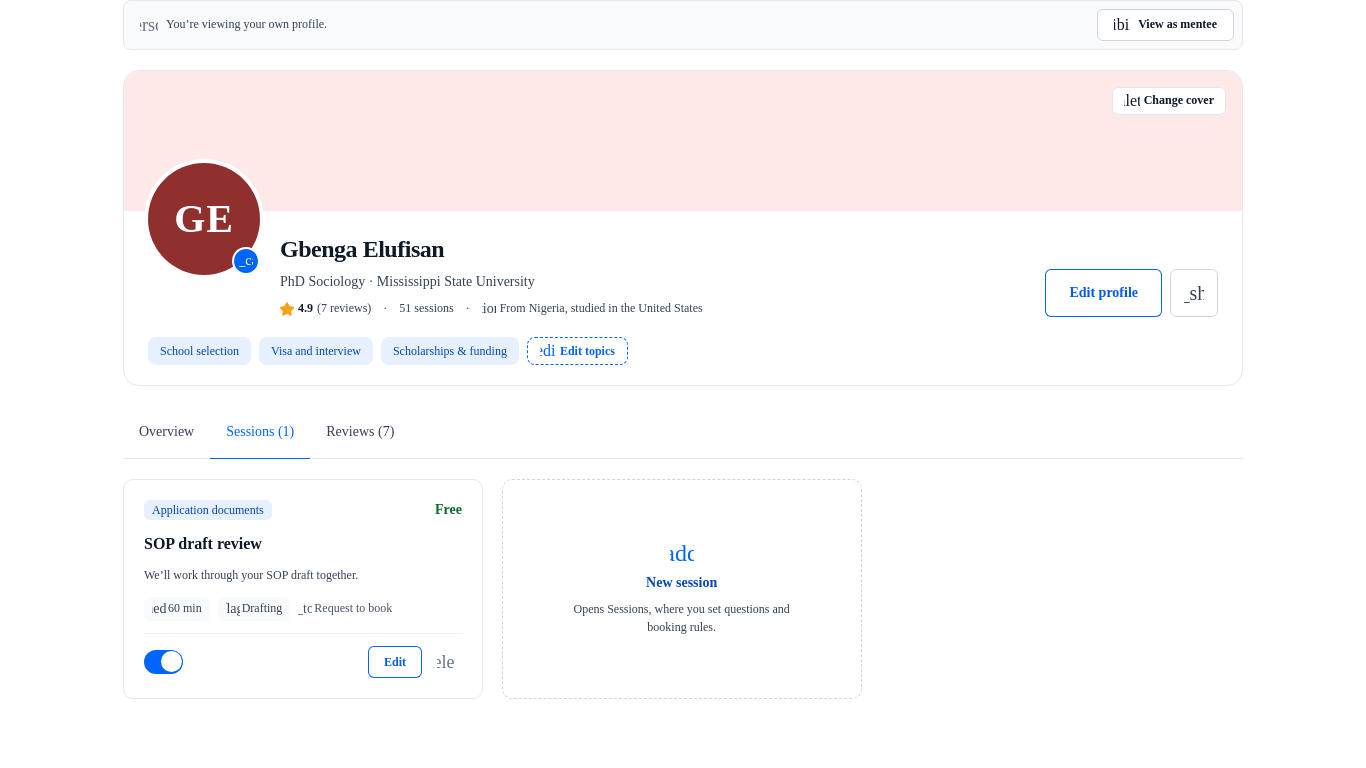
Test: MentorProfileScreen — the owner’s session types (active only) › the last active type says what hiding it means
The width and height of the screenshot is (1366, 768).
Click the switch named "Visible to mentees: SOP draft review": (164, 662) [144,650,183,674]
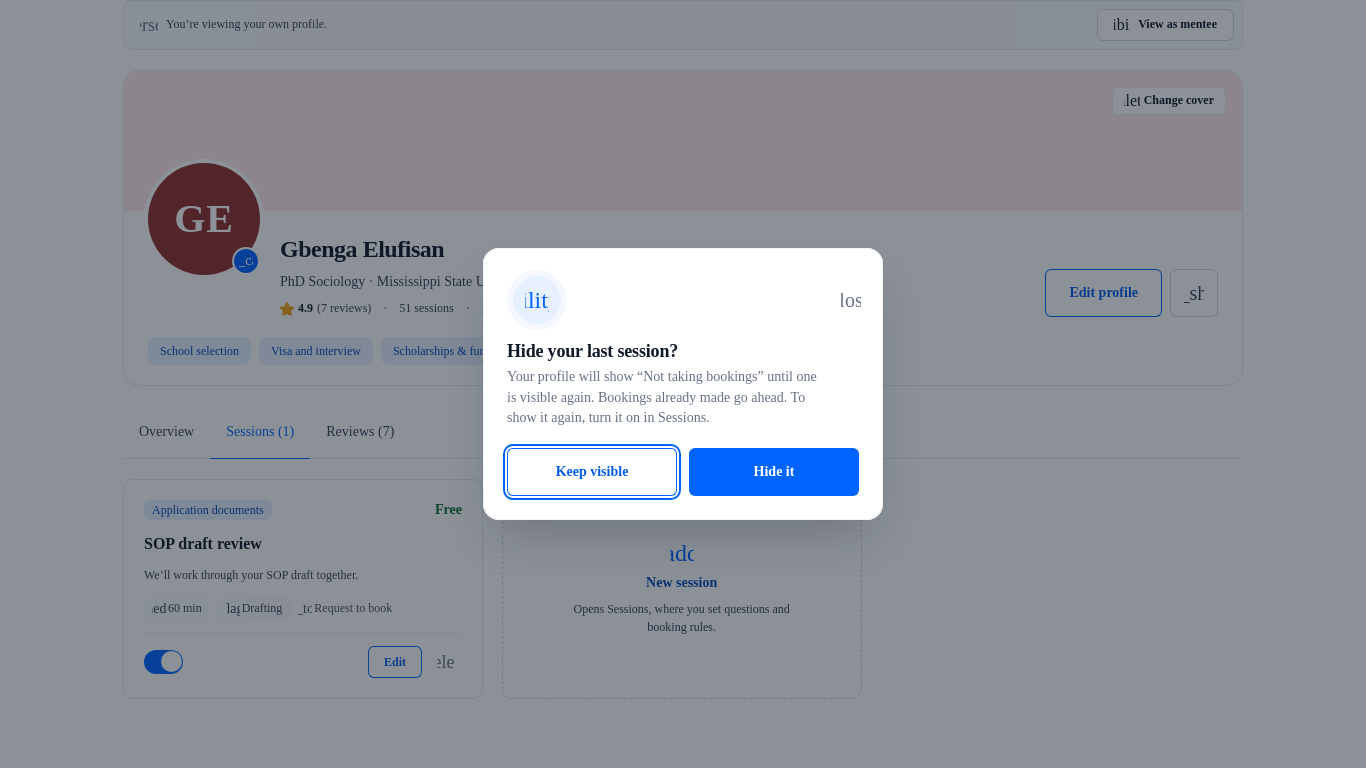
Now the dialog "Hide your last session?" shows "Your profile will show “Not taking bookings”", box [507,369,817,425]
Now the dialog "Hide your last session?" shows "To show it again, turn it on in Sessions.", box [507,369,817,425]
